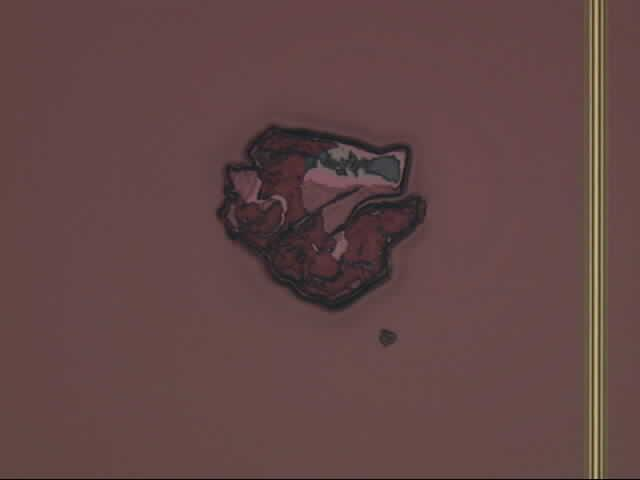PIQ PARTICLE: (210, 107, 440, 352)
